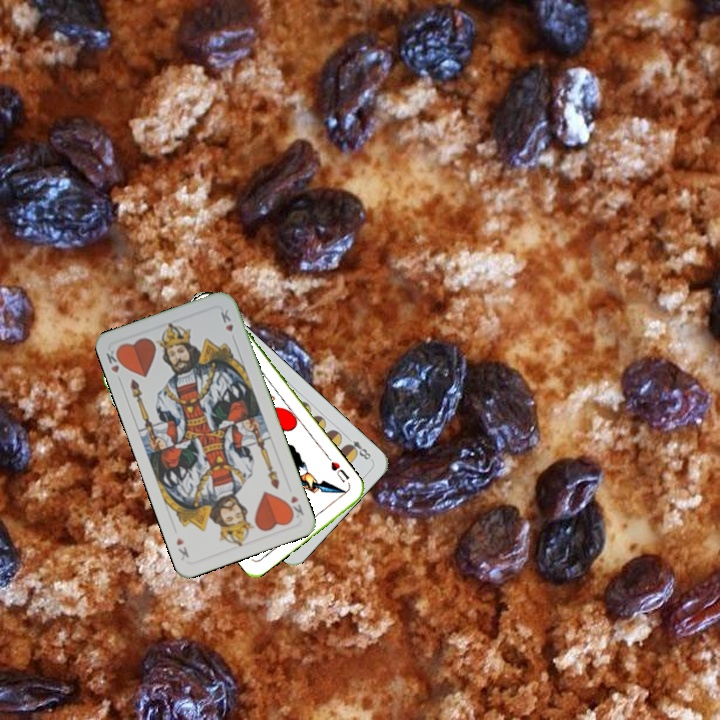E8: (342, 431, 375, 463)
HK: (102, 345, 127, 385), (287, 491, 306, 520)
HU: (327, 457, 352, 485)
